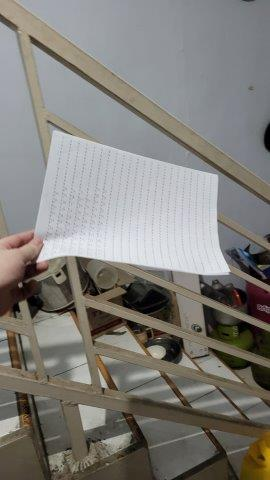kertas: (26, 129, 235, 278)
